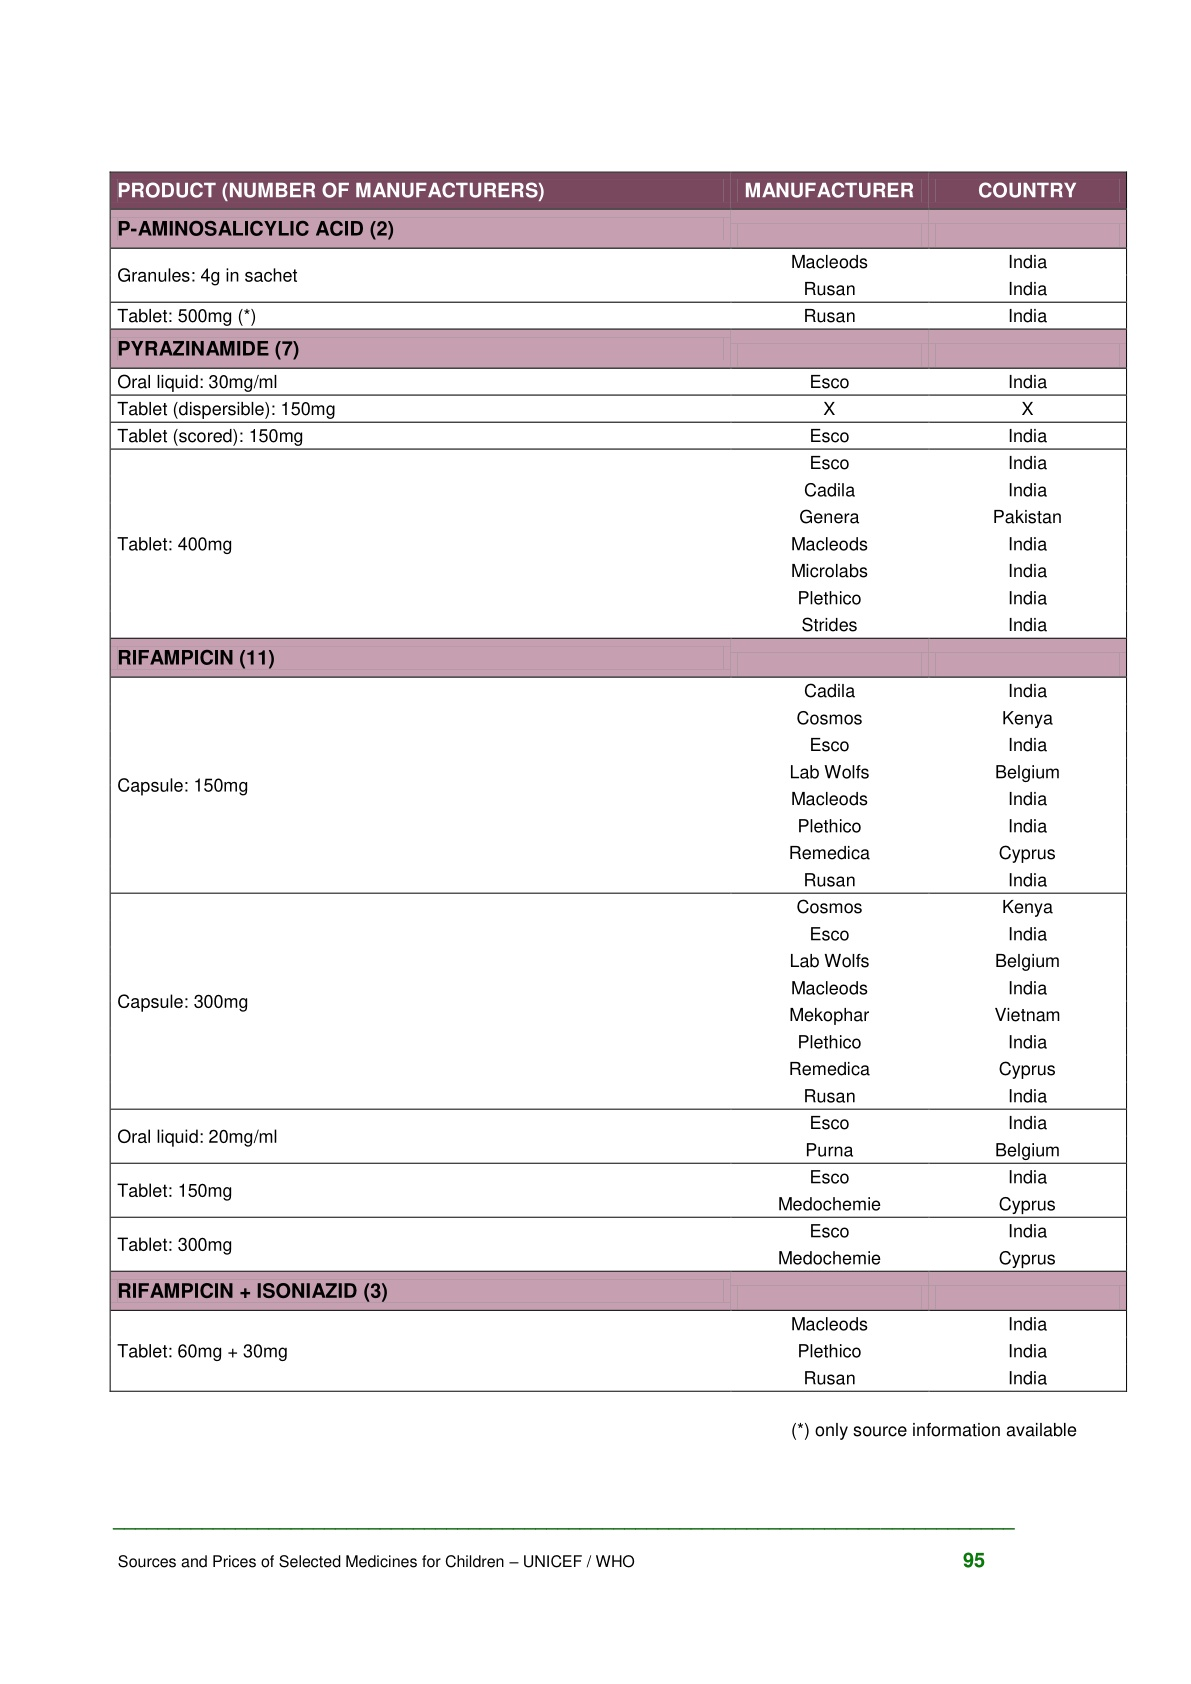partial_lined_merged_cells: (108, 169, 1129, 1394)
